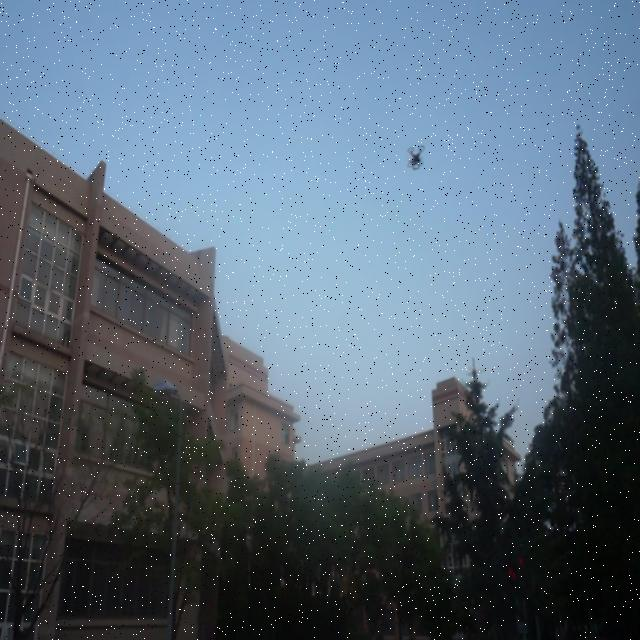UAV: (407, 144, 425, 170)
